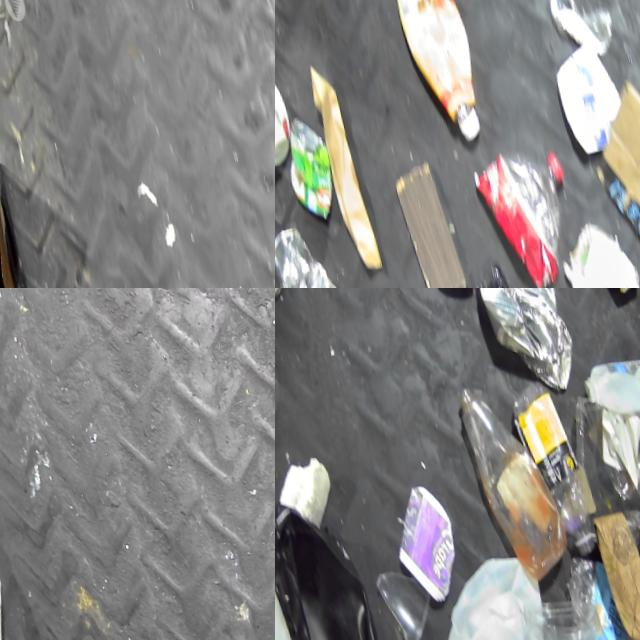can: (460, 288, 580, 391), (275, 108, 339, 223), (549, 209, 640, 288), (275, 218, 356, 288)
milk_jug: (399, 537, 562, 640), (574, 335, 640, 416), (275, 500, 313, 640)
non_white_jug: (275, 487, 388, 640)
plastic_bottle: (450, 367, 572, 584), (462, 135, 586, 288), (501, 368, 593, 552)
